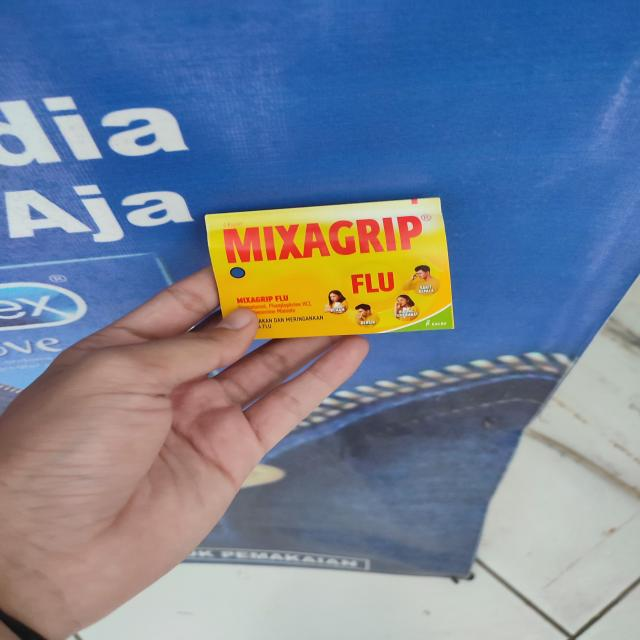B3: (206, 197, 455, 341)
